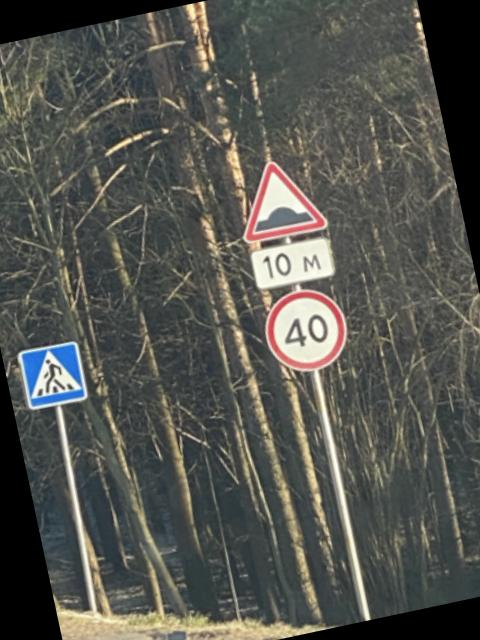crosswalk-sign: (15, 337, 91, 414)
